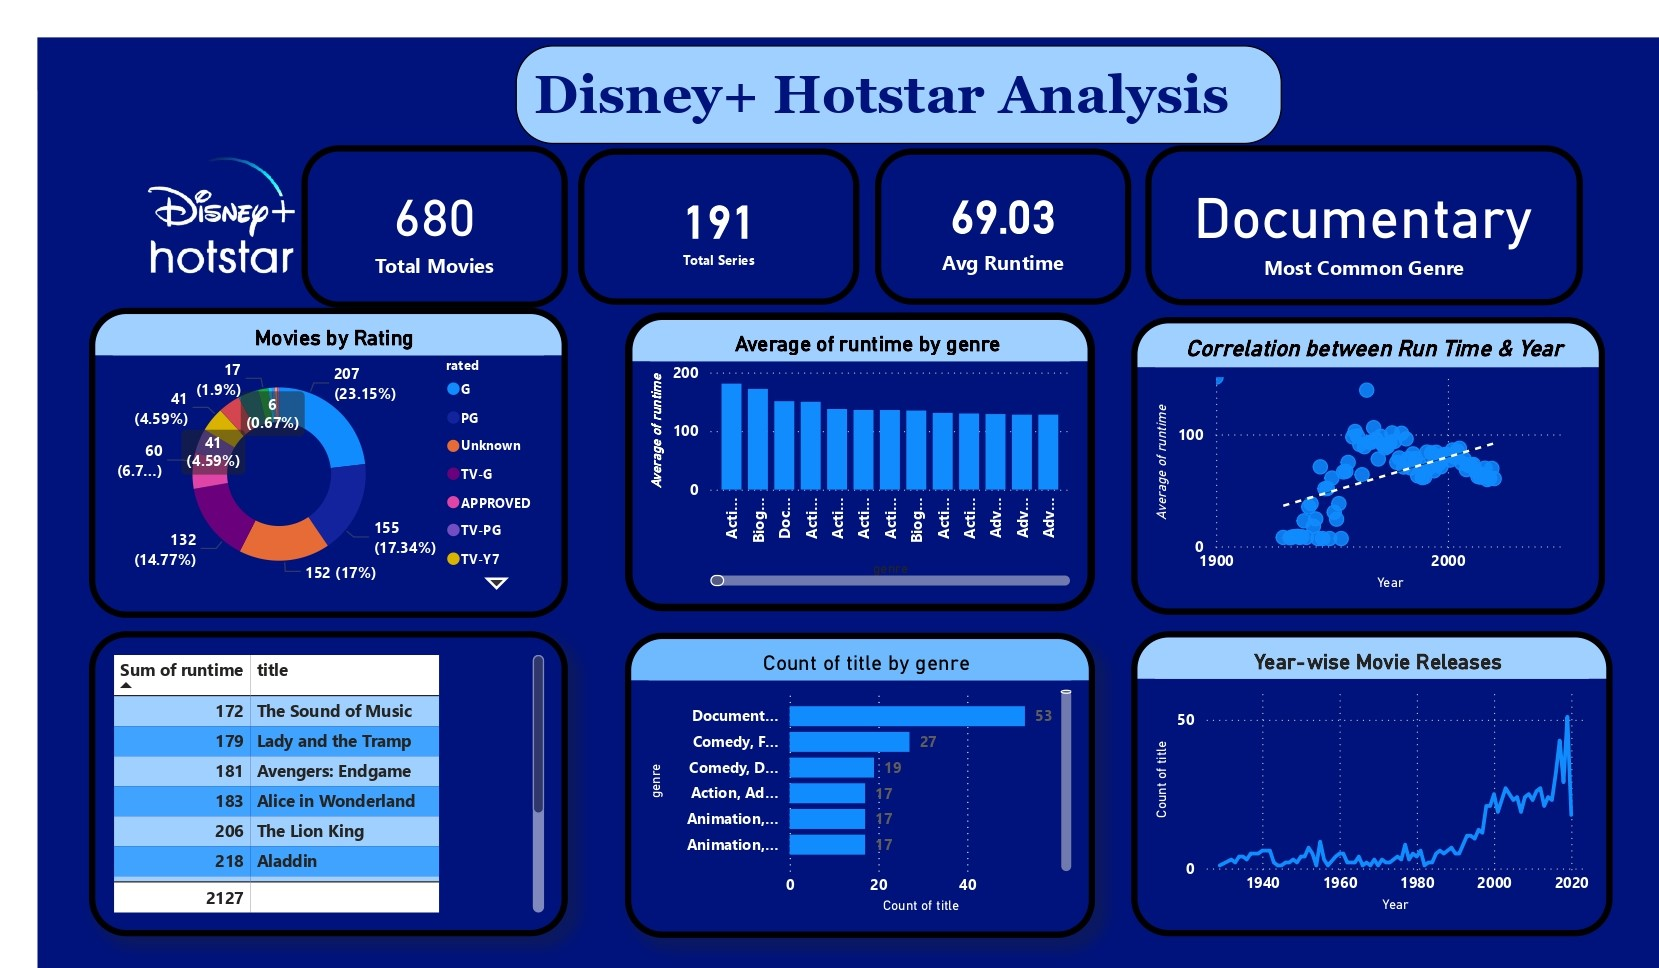

What the dashboard file says about the page in this screenshot:
{"tool":"powerbi","page":{"name":"Page 1","canvas":[1280,720],"ordinal":0},"visuals":[{"type":"barChart","fields":{"Category":["disney_plus_shows_cleaned.genre"],"Y":["CountNonNull(disney_plus_shows_cleaned.title)"]},"box":[470,476.2,376.2,243.8],"z":0},{"type":"clusteredColumnChart","fields":{"Category":["disney_plus_shows_cleaned.genre"],"Y":["Avg(disney_plus_shows_cleaned.runtime)"]},"box":[470,220,376.2,238.8],"z":1000},{"type":"donutChart","title":"Movies by Rating","fields":{"Y":["CountNonNull(disney_plus_shows_cleaned.title)"],"Category":["disney_plus_shows_cleaned.rated"]},"box":[41.2,216.2,382.5,247.5],"z":2000},{"type":"lineChart","title":"Year-wise Movie Releases","fields":{"Category":["disney_plus_shows_cleaned.released_at.Variation.Date Hierarchy.Year"],"Y":["CountNonNull(disney_plus_shows_cleaned.title)"]},"box":[875,475,385,243.8],"z":3000},{"type":"textbox","box":[382.5,6.2,612.5,78.8],"z":4000},{"type":"tableEx","fields":{"Values":["Sum(disney_plus_shows_cleaned.runtime)","disney_plus_shows_cleaned.title"]},"box":[41.2,475,382.5,243.8],"z":5000},{"type":"scatterChart","title":"Correlation between Run Time & Year","fields":{"X":["disney_plus_shows_cleaned.released_at.Variation.Date Hierarchy.Year"],"Y":["Avg(disney_plus_shows_cleaned.runtime)"]},"box":[875,223.8,378.8,237.5],"z":6000},{"type":"card","fields":{"Values":["disney_plus_shows_cleaned.Total Movies"]},"box":[211.2,86.2,212.5,130],"z":7000},{"type":"card","fields":{"Values":["disney_plus_shows_cleaned.Total Series"]},"box":[432.5,88.8,225,125],"z":8000},{"type":"card","fields":{"Values":["disney_plus_shows_cleaned.Avg Runtime"]},"box":[670,88.8,205,125],"z":9000},{"type":"card","fields":{"Values":["disney_plus_shows_cleaned.Most Common Genre"]},"box":[887.5,86.2,350,127.5],"z":10000},{"type":"image","box":[0,71.2,293.8,151.2],"z":11000}]}

Visuals, with their boxes on the page's 1280x720 design canvas (x1, y1, x2, y2). These are canvas units, not pixel positions in the 1659x968 screenshot, which may show the page scaled, cropped or inside an application window:
barChart - disney_plus_shows_cleaned.genre x CountNonNull(disney_plus_shows_cleaned.title): <bbox>470, 476, 846, 720</bbox>
clusteredColumnChart - disney_plus_shows_cleaned.genre x Avg(disney_plus_shows_cleaned.runtime): <bbox>470, 220, 846, 459</bbox>
"Movies by Rating" donutChart: <bbox>41, 216, 424, 464</bbox>
"Year-wise Movie Releases" lineChart: <bbox>875, 475, 1260, 719</bbox>
textbox: <bbox>382, 6, 995, 85</bbox>
tableEx - Sum(disney_plus_shows_cleaned.runtime) x disney_plus_shows_cleaned.title: <bbox>41, 475, 424, 719</bbox>
"Correlation between Run Time & Year" scatterChart: <bbox>875, 224, 1254, 461</bbox>
card - disney_plus_shows_cleaned.Total Movies: <bbox>211, 86, 424, 216</bbox>
card - disney_plus_shows_cleaned.Total Series: <bbox>432, 89, 658, 214</bbox>
card - disney_plus_shows_cleaned.Avg Runtime: <bbox>670, 89, 875, 214</bbox>
card - disney_plus_shows_cleaned.Most Common Genre: <bbox>888, 86, 1238, 214</bbox>
image: <bbox>0, 71, 294, 222</bbox>
